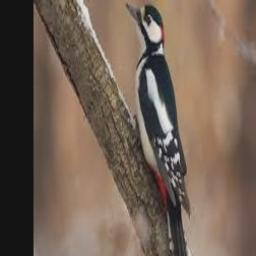Woodpecker: (125, 1, 190, 256)
